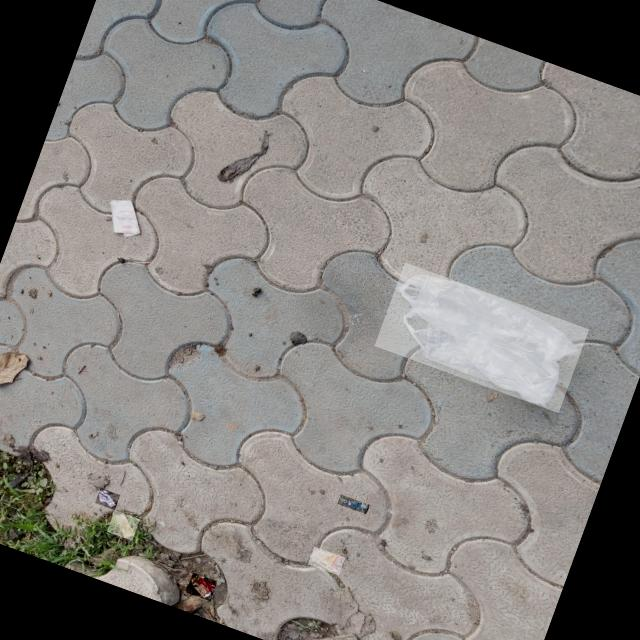Other Carton: (310, 548, 344, 572), (98, 490, 115, 508)
Other plastic: (190, 576, 215, 599), (113, 514, 134, 539)
Paper bag: (111, 201, 140, 238)
Single-use carrier bag: (395, 274, 580, 407)
Unlabeled litter: (339, 498, 368, 514)
